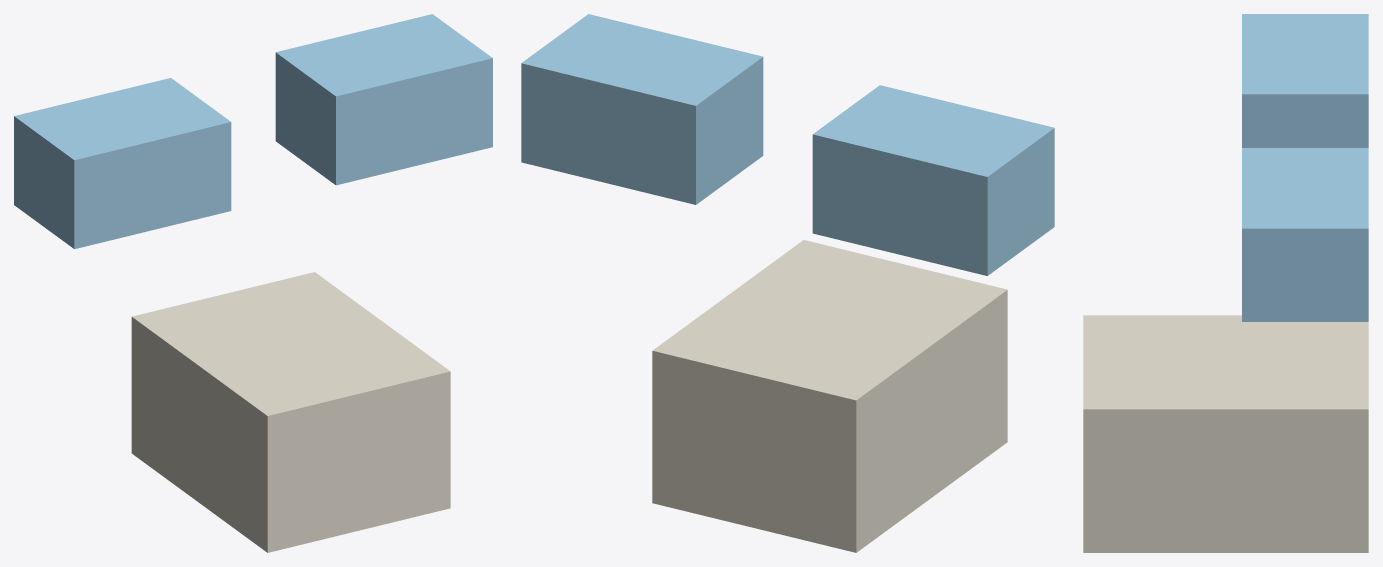
File: usd.glb
3 renders of one model, left to right at view 1: azimuth 30°, elevation 25°; view 2: azimuth 150°, elevation 25°; view 3: azimuth 270°, elevation 25°, orthographic. The views are drawn at different scales.
Parts seen in each view (by area): view 1: BufferTank, PrimaryPump, PumpInstanceA; view 2: BufferTank, PumpInstanceA, PrimaryPump; view 3: BufferTank, PrimaryPump, PumpInstanceA.
Part boxes in pixels (x1,y1,x2,y2): BufferTank: (131, 272, 450, 552); PrimaryPump: (275, 14, 492, 185); PumpInstanceA: (14, 78, 231, 249); BufferTank: (652, 240, 1007, 552); PumpInstanceA: (812, 85, 1054, 275); PrimaryPump: (521, 14, 763, 204); BufferTank: (1083, 315, 1368, 552); PrimaryPump: (1242, 148, 1368, 321); PumpInstanceA: (1242, 14, 1368, 147).
Size of the model in its own units: 6.4 by 5.35 by 3.6.
